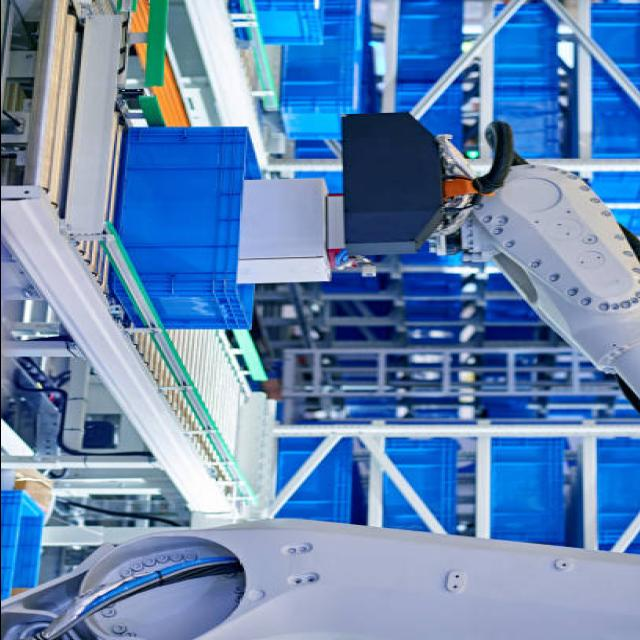Robotic-arm: (72, 111, 640, 640)
